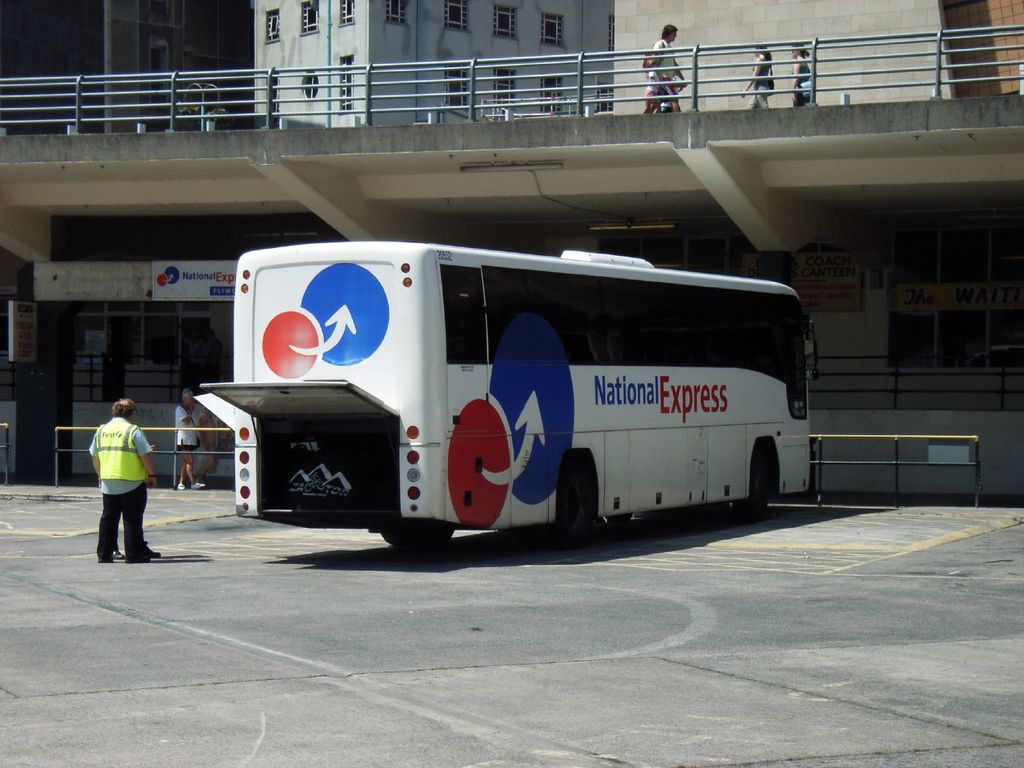Bus: (194, 240, 818, 544)
